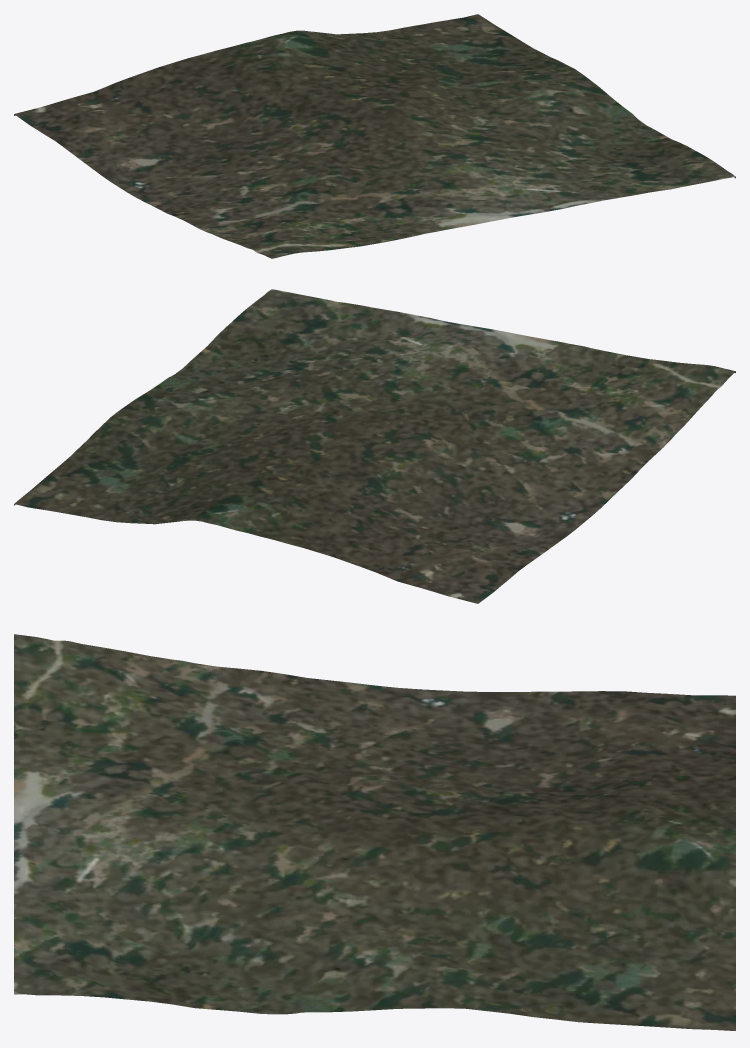
3 renders of one model, top to bottom at view 1: azimuth 30°, elevation 25°; view 2: azimuth 150°, elevation 25°; view 3: azimuth 270°, elevation 25°, orthographic. The views are drawn at different scales.
Bounding box in the file's own units: 250 × 30.43 × 241.
1 material, 1 textured.
